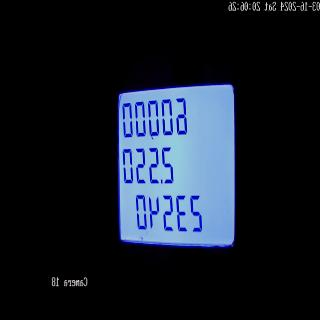screen: (112, 70, 238, 256)
